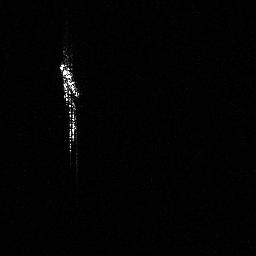ship: (56, 57, 85, 164)
